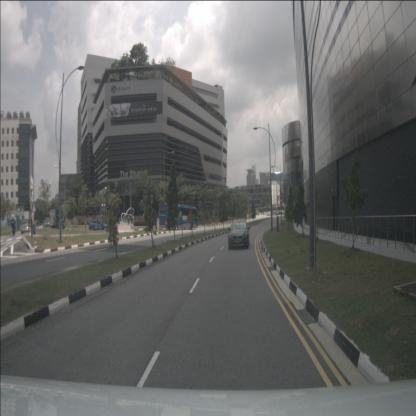human-pedestrian-adult: (128, 215, 130, 225), (131, 216, 133, 225)
vehicle-bus-rigid: (159, 203, 198, 231)
vehicle-car: (228, 220, 250, 250), (88, 219, 108, 232), (21, 220, 29, 234), (45, 218, 50, 227)
vehicle-motorcycle: (10, 214, 16, 236)
vehicle-truck: (50, 209, 66, 230)
